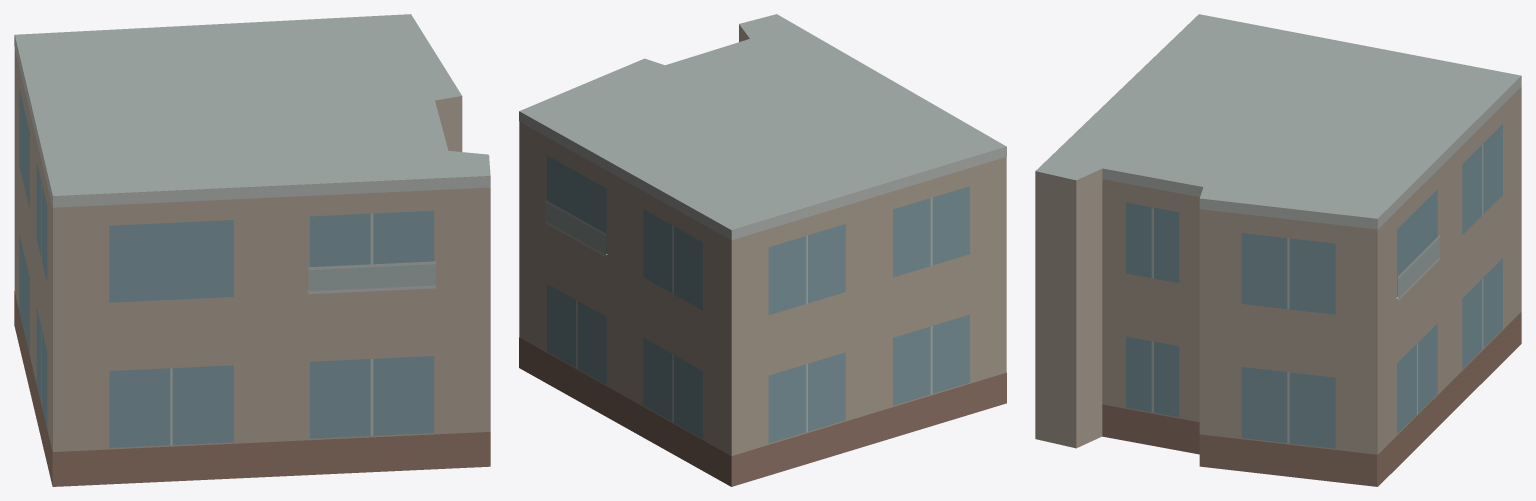
File: survey-upis-32678439.glb
3 views of the same model, side by side, from view 1: azimuth 30°, elevation 25°; view 2: azimuth 150°, elevation 25°; view 3: azimuth 270°, elevation 25° (orthographic). The views are drawn at different scales.
Visible parts, largest first — view 1: survey-upis-32678439.tmp; view 2: survey-upis-32678439.tmp; view 3: survey-upis-32678439.tmp.
Boxes of the visible parts, <box> form: survey-upis-32678439.tmp: <box>14,14,490,486</box>; survey-upis-32678439.tmp: <box>519,14,1006,486</box>; survey-upis-32678439.tmp: <box>1035,14,1521,486</box>.
Size of the model in its own units: 10.01 by 6.1 by 10.04.
